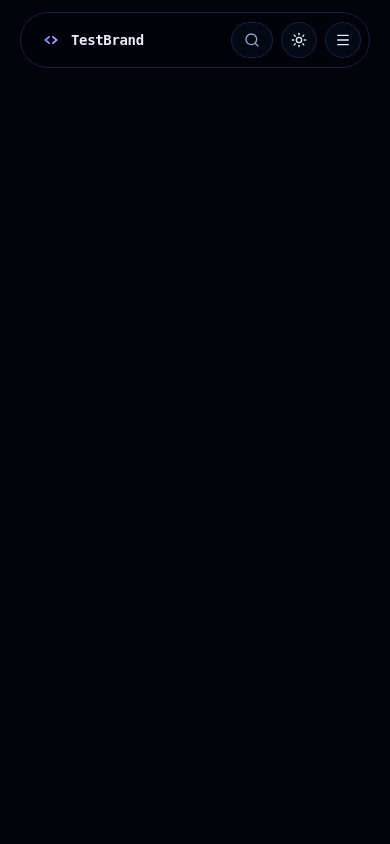
Test: Navbar › opens and closes the mobile menu with its button
Later steps or results of the test are not shown.
Click the button named "Open menu" at (343, 40), box [325, 22, 361, 58]
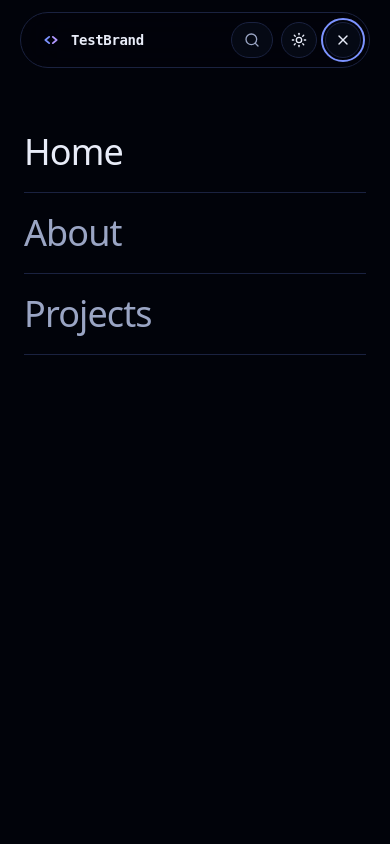
Expected: the button named "Close menu" is expanded, [325, 22, 361, 58]
